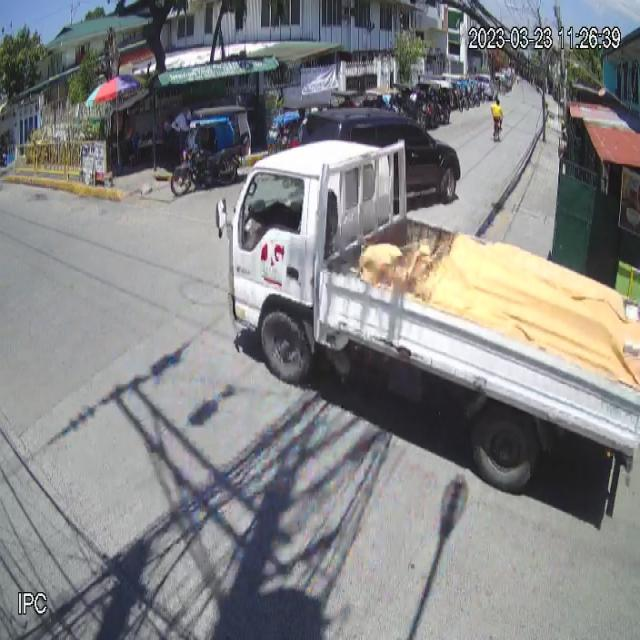Truck: (212, 139, 640, 495)
